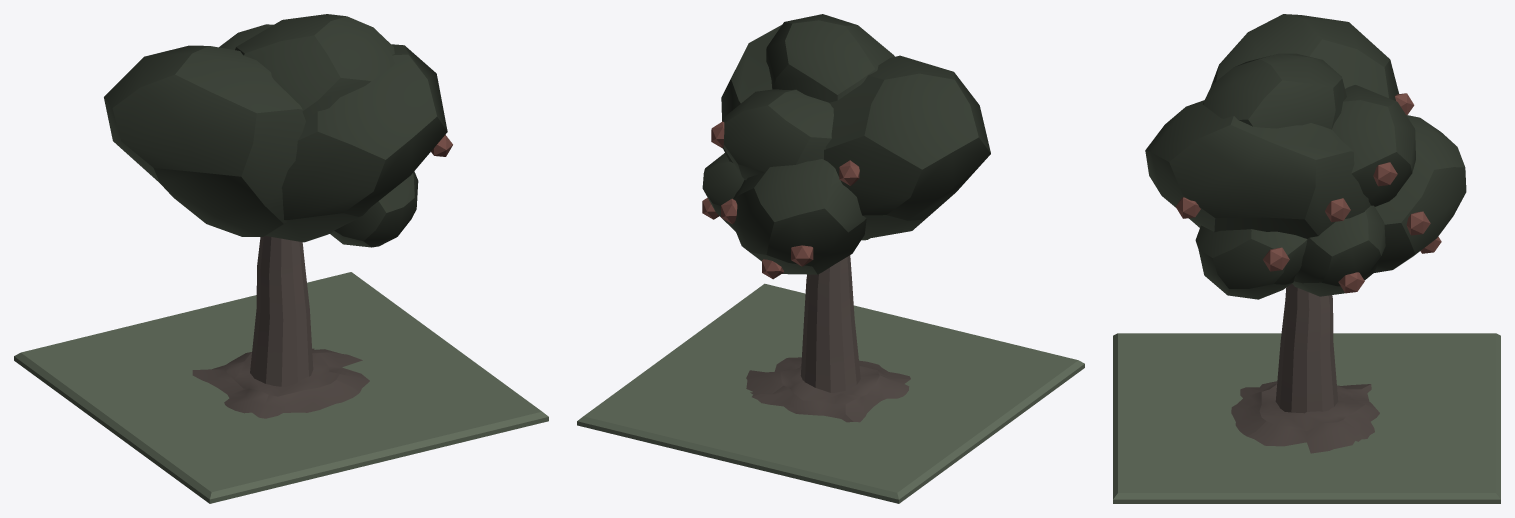
Rendered from pommier.fbx.
3 views of the same model, side by side, from view 1: azimuth 30°, elevation 25°; view 2: azimuth 150°, elevation 25°; view 3: azimuth 270°, elevation 25° (orthographic). The views are drawn at different scales.
Visible parts, largest first — view 1: pPlatonic17; view 2: pPlatonic17; view 3: pPlatonic17.
Boxes of the visible parts, x1=… form: pPlatonic17: x1=14, y1=14, x2=548, y2=503; pPlatonic17: x1=577, y1=14, x2=1084, y2=503; pPlatonic17: x1=1113, y1=14, x2=1500, y2=503.
Bounding box in the file's own units: 200 × 212 × 200.
